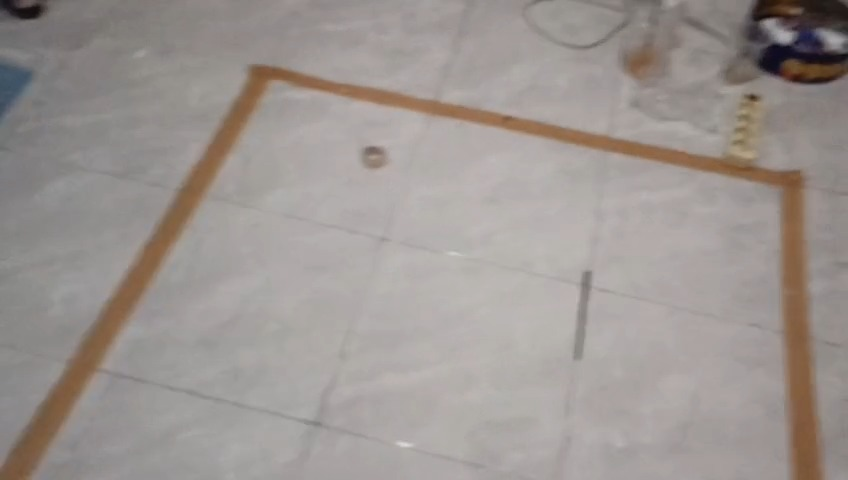floor marking: (3, 65, 823, 479)
